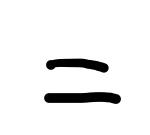eqv: (39, 55, 122, 105)
